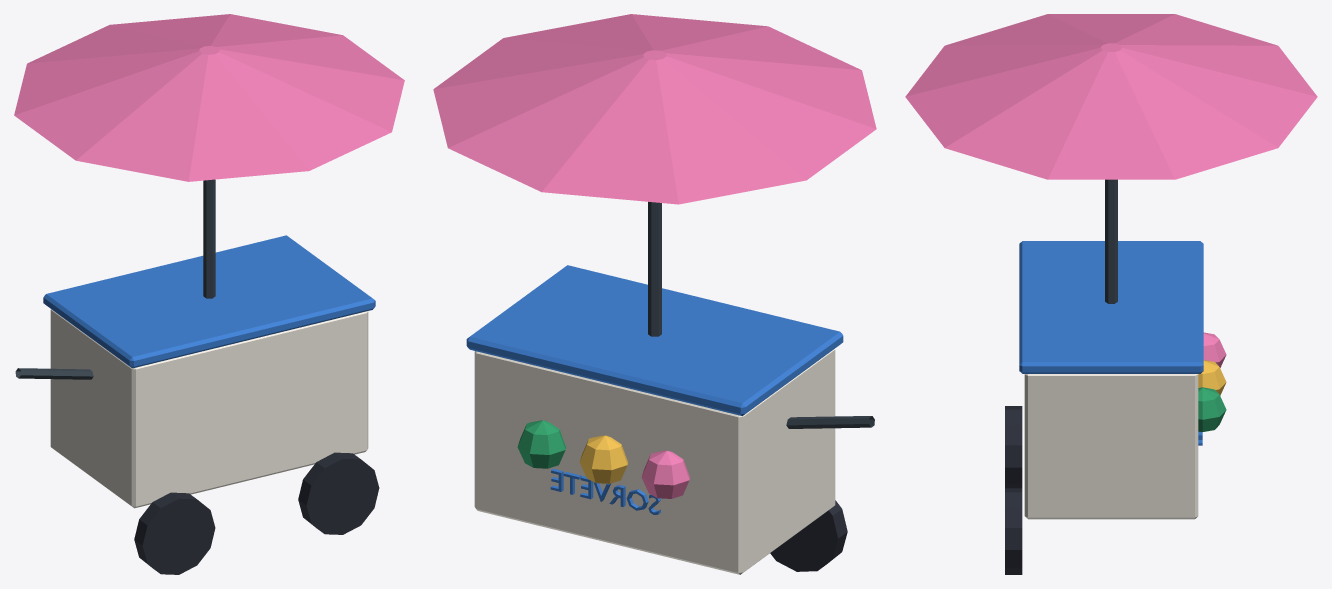
File: sorvete.glb
The picture shows the model from 3 angles, left to right: view 1: azimuth 30°, elevation 25°; view 2: azimuth 150°, elevation 25°; view 3: azimuth 270°, elevation 25°; orthographic projection. The views are drawn at different scales.
Visible parts, largest first — view 1: sorvete; view 2: sorvete; view 3: sorvete.
Part boxes in pixels (box(x1,y1,x2,y2)): sorvete: box(14, 14, 404, 574); sorvete: box(433, 14, 876, 574); sorvete: box(905, 14, 1317, 574).
Bounding box in the file's own units: 1.96 × 2.45 × 1.9.
